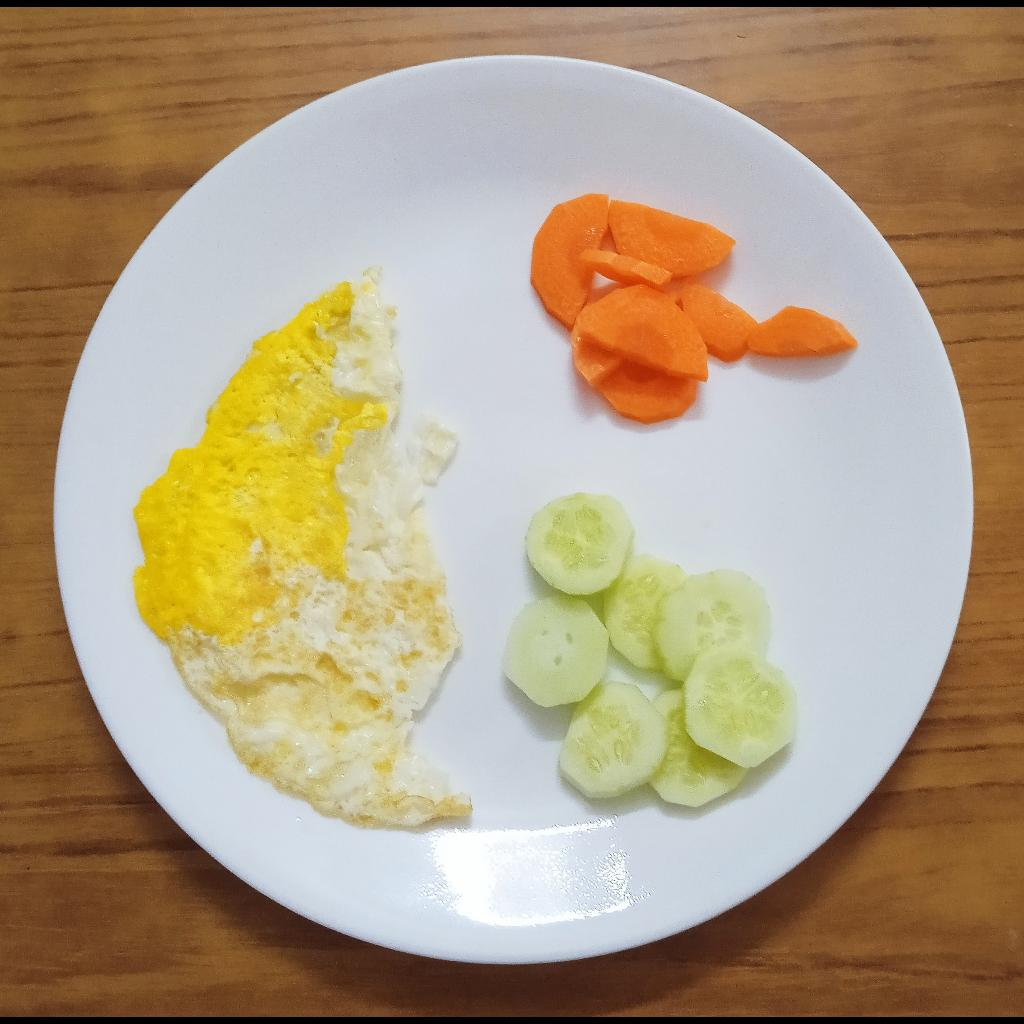bread: (529, 187, 859, 421)
cucumber: (500, 493, 802, 815)
egg-poached: (127, 265, 470, 833)
